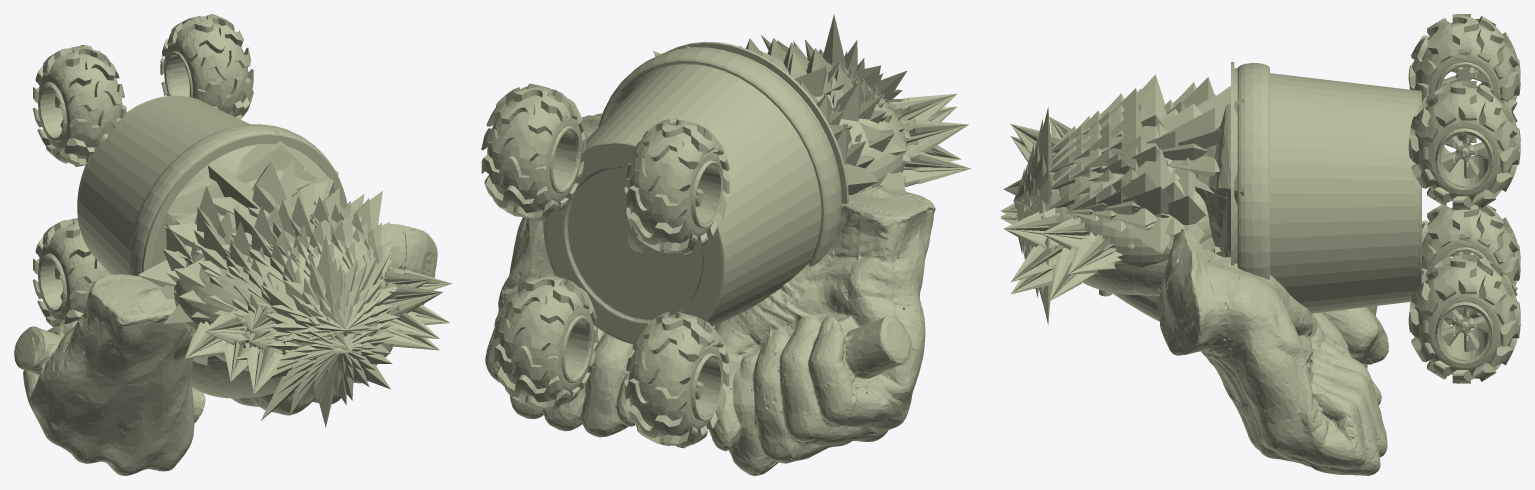
Rendered from tinker.obj.
3 views of the same model, side by side, from view 1: azimuth 30°, elevation 25°; view 2: azimuth 150°, elevation 25°; view 3: azimuth 270°, elevation 25° (orthographic). The views are drawn at different scales.
Parts seen in each view (by area): view 1: obj_0; view 2: obj_0; view 3: obj_0.
Boxes of the visible parts, bbox=[...] form: obj_0: bbox=[14, 14, 451, 475]; obj_0: bbox=[481, 14, 970, 475]; obj_0: bbox=[1000, 14, 1520, 475].
Bounding box in the file's own units: 69.66 × 62.44 × 79.
